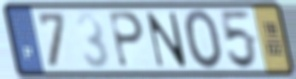3: (75, 9, 111, 71)
5: (216, 8, 261, 70)
7: (36, 11, 69, 71)
N: (145, 11, 189, 69)
O: (182, 8, 225, 72)
P: (107, 10, 146, 70)
